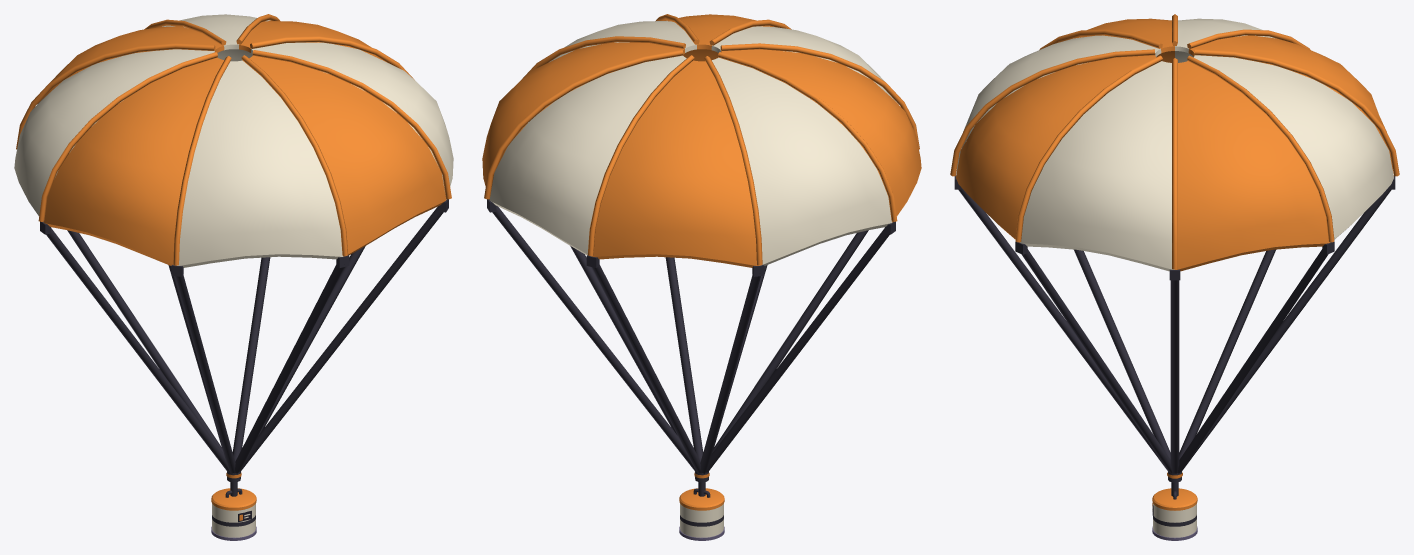
Rendered from parachute.glb.
3 renders of one model, left to right at view 1: azimuth 30°, elevation 25°; view 2: azimuth 150°, elevation 25°; view 3: azimuth 270°, elevation 25°, orthographic.
Parts seen in each view (by area): view 1: canopy_Orange, canopy_CreamHull, canopy_Graphite, canister_CreamHull, canister_Orange; view 2: canopy_Orange, canopy_CreamHull, canopy_Graphite, canister_CreamHull, canister_Orange; view 3: canopy_Orange, canopy_CreamHull, canopy_Graphite, canister_CreamHull, canister_Orange.
Part boxes in pixels (x1=…): canopy_Orange: x1=16, y1=14, x2=451, y2=478; canopy_CreamHull: x1=14, y1=14, x2=453, y2=267; canopy_Graphite: x1=40, y1=199, x2=448, y2=496; canister_CreamHull: x1=212, y1=503, x2=255, y2=537; canister_Orange: x1=211, y1=488, x2=256, y2=520; canopy_Orange: x1=482, y1=14, x2=921, y2=478; canopy_CreamHull: x1=489, y1=21, x2=895, y2=265; canopy_Graphite: x1=487, y1=199, x2=895, y2=496; canister_CreamHull: x1=680, y1=503, x2=723, y2=537; canister_Orange: x1=679, y1=488, x2=724, y2=510; canopy_Orange: x1=950, y1=14, x2=1399, y2=478; canopy_CreamHull: x1=956, y1=18, x2=1393, y2=271; canopy_Graphite: x1=954, y1=176, x2=1395, y2=496; canister_CreamHull: x1=1152, y1=504, x2=1196, y2=537; canister_Orange: x1=1152, y1=488, x2=1197, y2=510.
Size of the model in its own units: 2.05 by 2.43 by 2.05.
